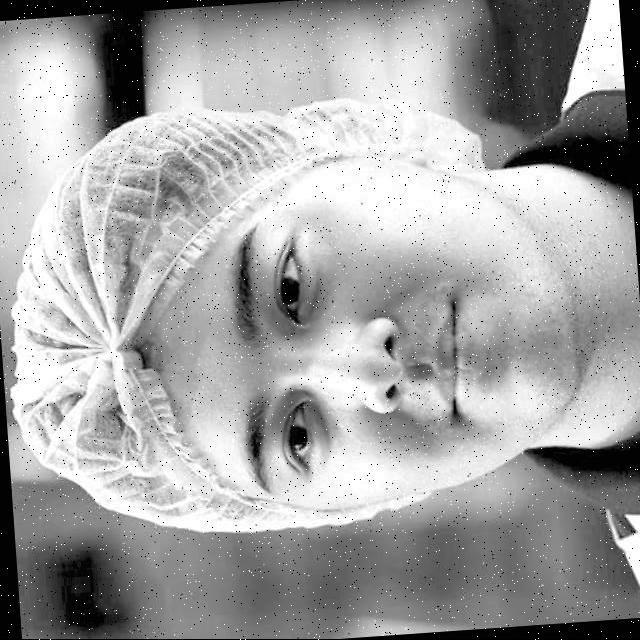no_hairnet: (314, 242, 508, 432)
